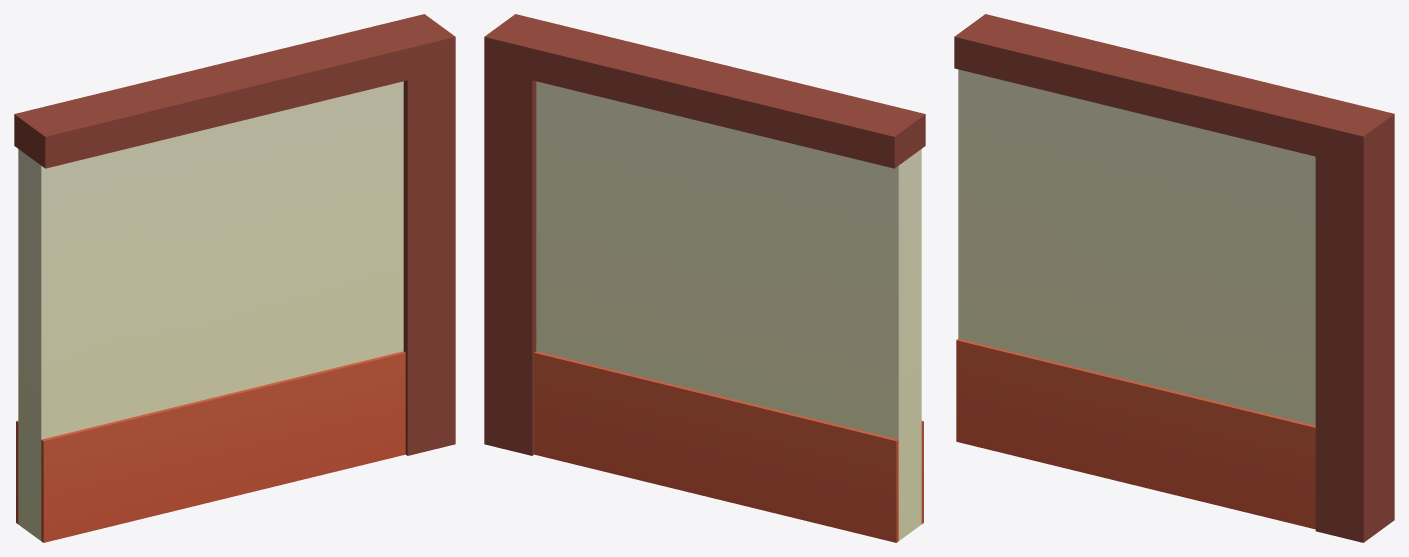
File: Wall_3.fbx
3 views of the same model, side by side, from view 1: azimuth 30°, elevation 25°; view 2: azimuth 150°, elevation 25°; view 3: azimuth 330°, elevation 25° (orthographic).
Parts seen in each view (by area): view 1: Wall_3; view 2: Wall_3; view 3: Wall_3.
Part boxes in pixels (box(x1,y1,x2,y2)): Wall_3: box(14, 14, 455, 542); Wall_3: box(484, 14, 925, 542); Wall_3: box(954, 14, 1394, 542).
Size of the model in its own units: 400 by 380 by 52.74.
